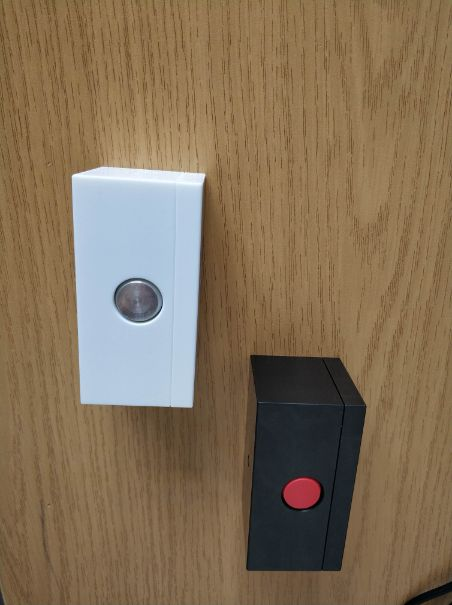black+black+red: (239, 351, 369, 577)
white+white+silver: (68, 165, 210, 411)
